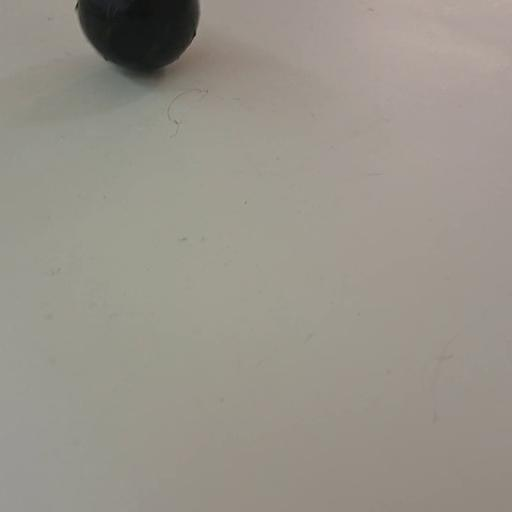dead: (75, 0, 200, 74)
